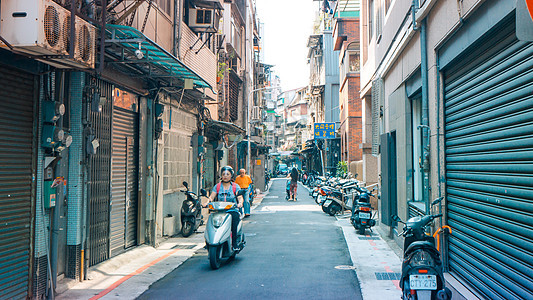people: (211, 167, 245, 249), (231, 168, 252, 217), (289, 167, 299, 202)
